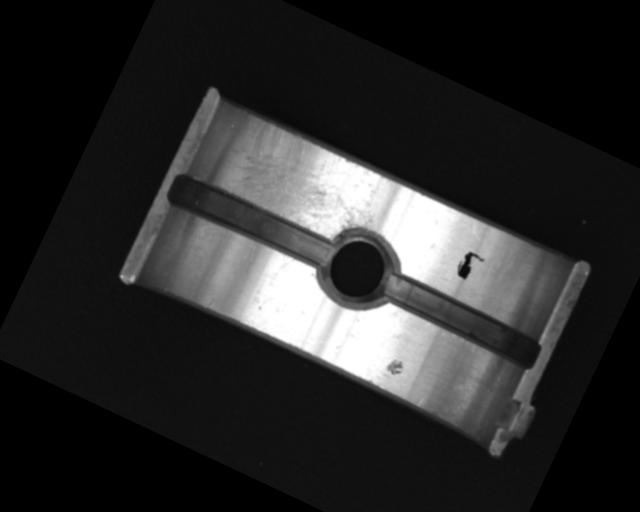blot: (452, 247, 487, 284)
bruise: (383, 355, 406, 377)
gap: (162, 167, 338, 277), (377, 268, 543, 370)
hole: (309, 217, 408, 319)
scratch: (205, 107, 395, 254)
